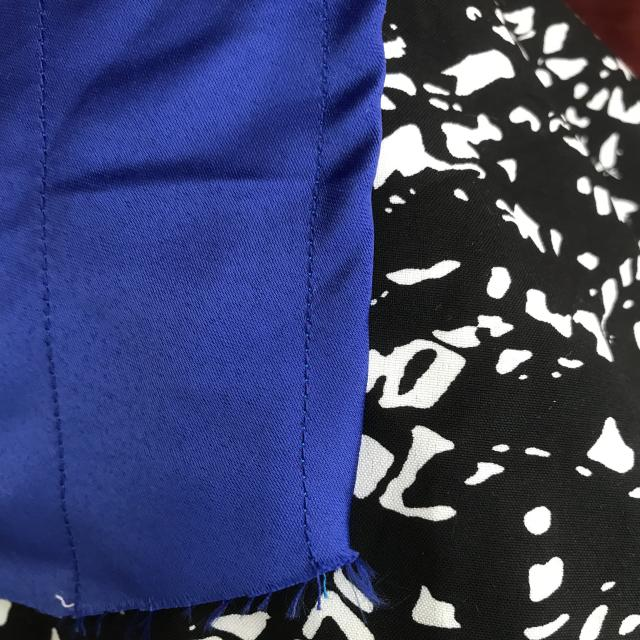good: (296, 300, 328, 436), (291, 464, 319, 527)
